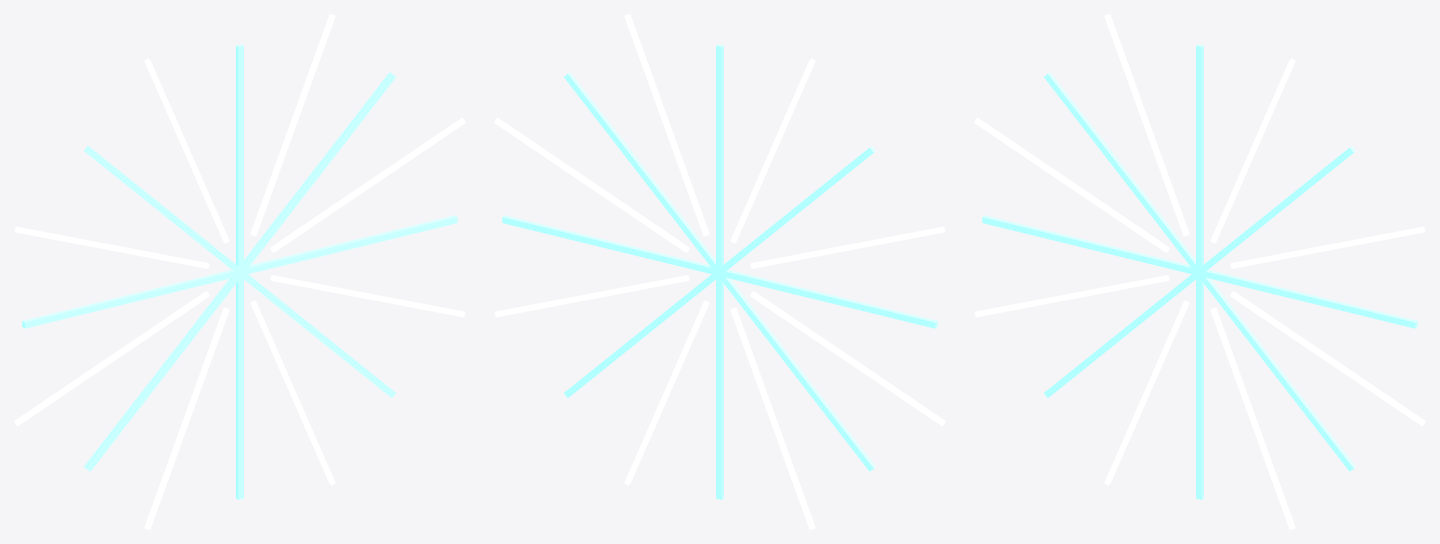
Rendered from FXWeb.fbx.
The picture shows the model from 3 angles, left to right: view 1: azimuth 30°, elevation 25°; view 2: azimuth 150°, elevation 25°; view 3: azimuth 330°, elevation 25°; orthographic projection.
Visible parts, largest first — view 1: FX Web_body_5, FX Web_body_1, FX Web_body_4, FX Web_body_0, FX Web_body_2, FX Web_body_6, FX Web_body_3, FX Web_body_7, FX Web_body_25, FX Web_body_28, FX Web_body_29, FX Web_body_24 (+5 smaller); view 2: FX Web_body_1, FX Web_body_5, FX Web_body_4, FX Web_body_0, FX Web_body_2, FX Web_body_6, FX Web_body_3, FX Web_body_7, FX Web_body_28, FX Web_body_29, FX Web_body_24, FX Web_body_30 (+7 smaller); view 3: FX Web_body_7, FX Web_body_3, FX Web_body_0, FX Web_body_4, FX Web_body_2, FX Web_body_6, FX Web_body_1, FX Web_body_5, FX Web_body_30, FX Web_body_31, FX Web_body_29, FX Web_body_27 (+7 smaller).
Part boxes in pixels (bbox=[...]): FX Web_body_5: bbox=[84, 274, 238, 471]; FX Web_body_1: bbox=[244, 72, 395, 268]; FX Web_body_4: bbox=[22, 270, 237, 328]; FX Web_body_0: bbox=[244, 215, 457, 273]; FX Web_body_2: bbox=[236, 44, 243, 273]; FX Web_body_6: bbox=[236, 272, 243, 499]; FX Web_body_3: bbox=[84, 146, 238, 274]; FX Web_body_7: bbox=[244, 271, 395, 397]; FX Web_body_25: bbox=[279, 14, 335, 162]; FX Web_body_28: bbox=[14, 334, 145, 425]; FX Web_body_29: bbox=[144, 383, 202, 529]; FX Web_body_24: bbox=[334, 118, 465, 207]; FX Web_body_1: bbox=[564, 72, 720, 271]; FX Web_body_5: bbox=[719, 276, 875, 471]; FX Web_body_4: bbox=[718, 270, 937, 328]; FX Web_body_0: bbox=[502, 215, 718, 275]; FX Web_body_2: bbox=[716, 44, 723, 268]; FX Web_body_6: bbox=[716, 277, 723, 499]; FX Web_body_3: bbox=[719, 146, 875, 275]; FX Web_body_7: bbox=[564, 271, 720, 397]; FX Web_body_28: bbox=[815, 334, 945, 425]; FX Web_body_29: bbox=[757, 382, 815, 529]; FX Web_body_24: bbox=[494, 118, 625, 208]; FX Web_body_30: bbox=[624, 363, 682, 485]; FX Web_body_7: bbox=[1201, 275, 1355, 471]; FX Web_body_3: bbox=[1044, 72, 1195, 268]; FX Web_body_0: bbox=[1202, 270, 1417, 328]; FX Web_body_4: bbox=[982, 215, 1195, 274]; FX Web_body_2: bbox=[1196, 44, 1203, 273]; FX Web_body_6: bbox=[1196, 272, 1203, 499]; FX Web_body_1: bbox=[1201, 146, 1355, 274]; FX Web_body_5: bbox=[1044, 274, 1195, 397]; FX Web_body_30: bbox=[1237, 382, 1295, 529]; FX Web_body_31: bbox=[1294, 334, 1425, 425]; FX Web_body_29: bbox=[1104, 362, 1162, 485]; FX Web_body_27: bbox=[974, 118, 1105, 208].
Size of the model in its own units: 623 by 623 by 6.
